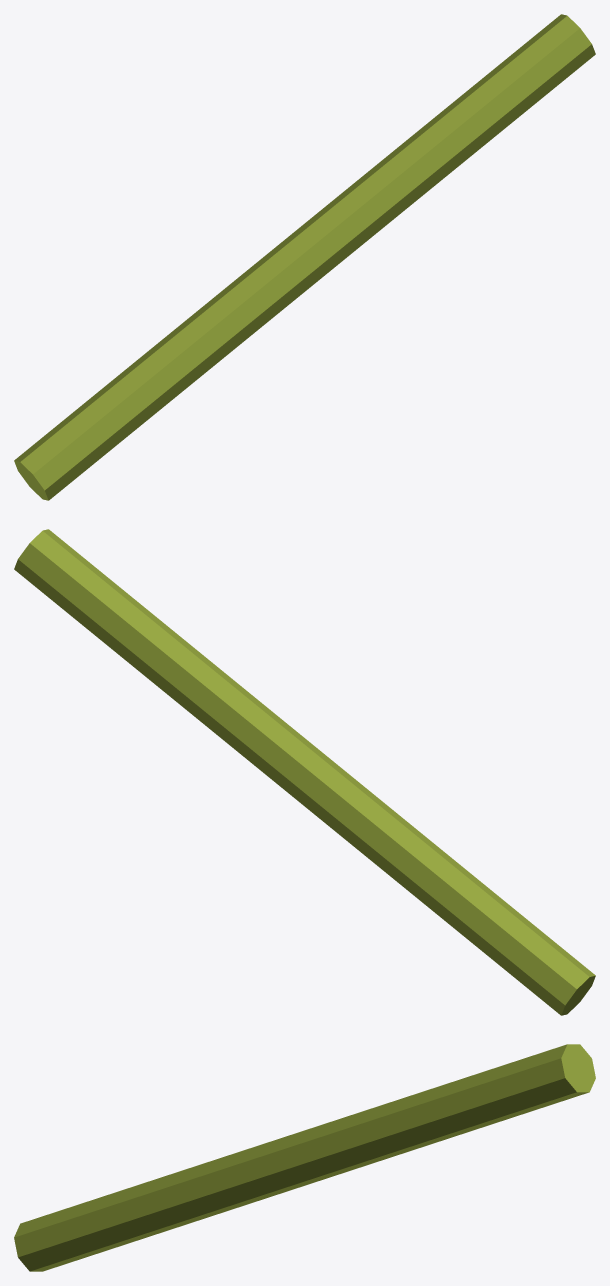
The model's file is Tarot_Card_Grate.fbx.
3 renders of one model, top to bottom at view 1: azimuth 30°, elevation 25°; view 2: azimuth 150°, elevation 25°; view 3: azimuth 330°, elevation 25°, orthographic.
Visible parts, largest first — view 1: Tarot_Card_Grate; view 2: Tarot_Card_Grate; view 3: Tarot_Card_Grate.
Boxes of the visible parts, bbox=[...] form: Tarot_Card_Grate: bbox=[14, 14, 595, 500]; Tarot_Card_Grate: bbox=[14, 529, 595, 1015]; Tarot_Card_Grate: bbox=[14, 1044, 595, 1271].
Bounding box in the file's own units: 8.33 × 4.97 × 0.6797.
